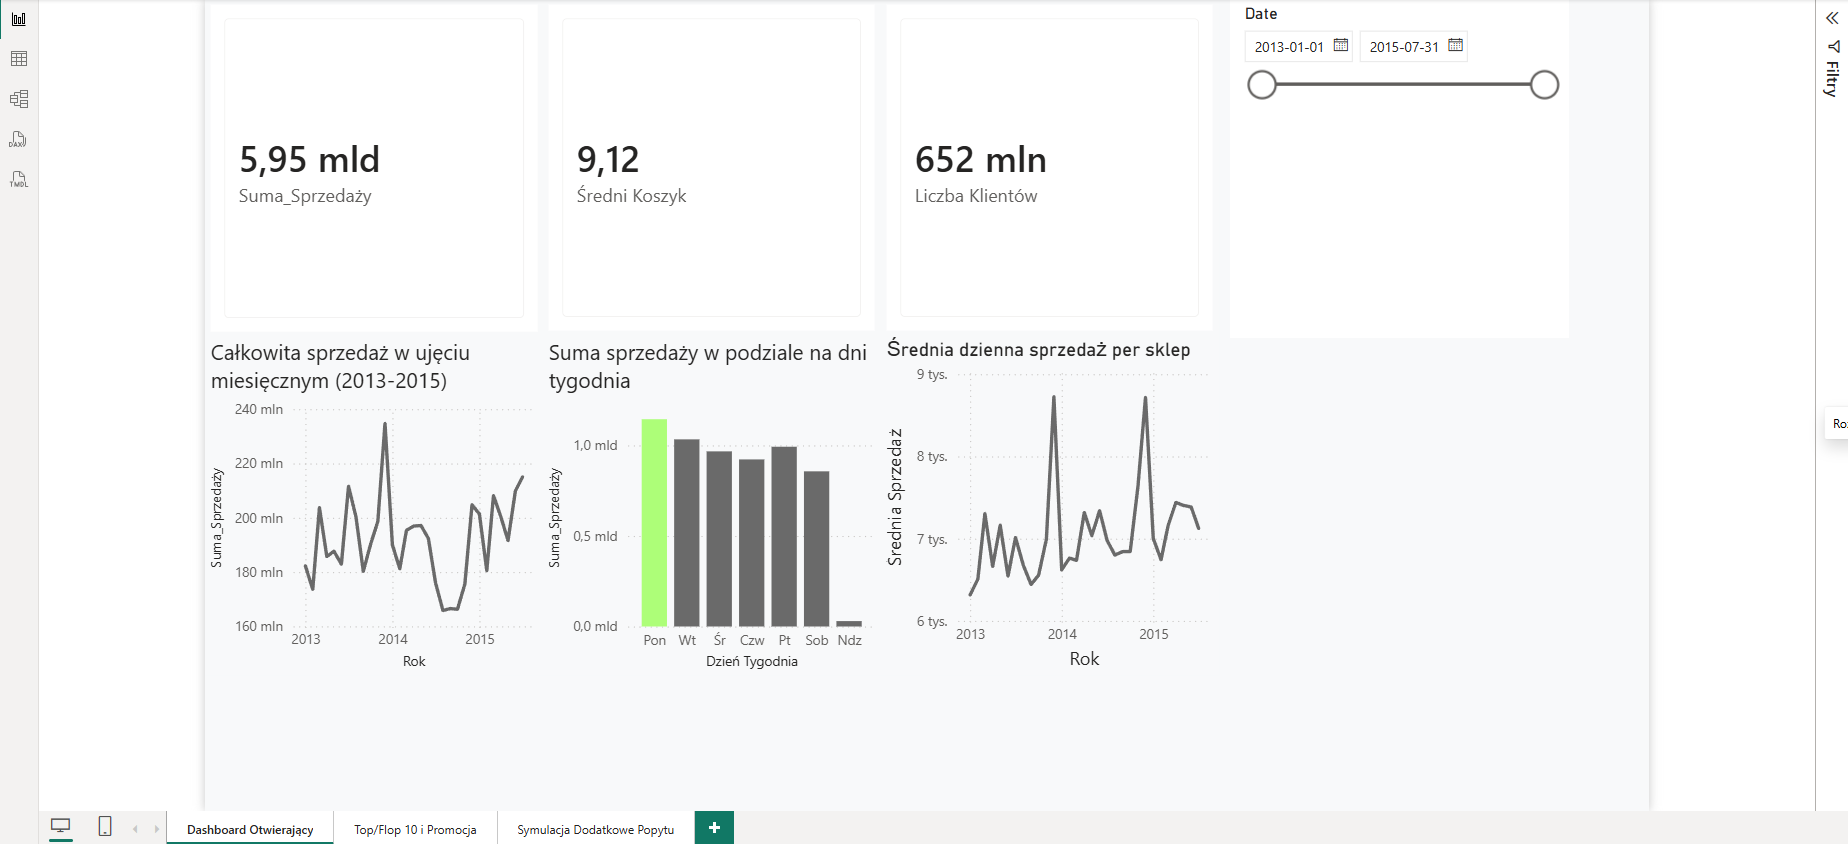

What the dashboard file says about the page in this screenshot:
{"tool":"powerbi","page":{"name":"Dashboard Otwierający","canvas":[1280,720],"ordinal":0},"visuals":[{"type":"cardVisual","title":"Łączny Przychód","fields":{"Data":["rossmann_decision_data (1).Suma Sprzedaży"]},"box":[0,0,300,300],"z":0},{"type":"cardVisual","title":"Średnia Wartość Koszyka","fields":{"Data":["rossmann_decision_data (1).Średni Koszyk"]},"box":[299.7,0,299.7,299.7],"z":1000},{"type":"cardVisual","title":"Całkowita Liczba Klientów","fields":{"Data":["rossmann_decision_data (1).Liczba Klientów"]},"box":[599.4,0,299.7,299.7],"z":2000},{"type":"lineChart","title":"Całkowita sprzedaż w ujęciu miesięcznym (2013-2015)","fields":{"Category":["rossmann_decision_data (1).Date.Odmiana.Hierarchia dat.Rok","rossmann_decision_data (1).Date.Odmiana.Hierarchia dat.Miesiąc"],"Y":["rossmann_decision_data (1).Suma Sprzedaży"]},"box":[0,299.6,299.6,299.6],"z":3000},{"type":"columnChart","title":"Suma sprzedaży w podziale na dni tygodnia","fields":{"Y":["rossmann_decision_data (1).Suma Sprzedaży"],"Category":["rossmann_decision_data (1).Dzien_Tygodnia_Nazwa"]},"box":[299.7,299.7,299.7,299.7],"z":4000},{"type":"lineChart","title":"Średnia dzienna sprzedaż per sklep","fields":{"Y":["rossmann_decision_data (1).Średnia Sprzedaż"],"Category":["rossmann_decision_data (1).Date.Odmiana.Hierarchia dat.Rok","rossmann_decision_data (1).Date.Odmiana.Hierarchia dat.Miesiąc"]},"box":[599.4,299.7,299.7,299.7],"z":5000},{"type":"slicer","fields":{"Values":["rossmann_decision_data (1).Date"]},"box":[909,0,300,300],"z":5001}]}

Visuals, with their boxes on the page's 1280x720 design canvas (x1, y1, x2, y2). These are canvas units, not pixel positions in the 1848x844 screenshot, which may show the page scaled, cropped or inside an application window:
"Łączny Przychód" cardVisual: (0,0,300,300)
"Średnia Wartość Koszyka" cardVisual: (300,0,599,300)
"Całkowita Liczba Klientów" cardVisual: (599,0,899,300)
"Całkowita sprzedaż w ujęciu miesięcznym (2013-2015)" lineChart: (0,300,300,599)
"Suma sprzedaży w podziale na dni tygodnia" columnChart: (300,300,599,599)
"Średnia dzienna sprzedaż per sklep" lineChart: (599,300,899,599)
slicer - rossmann_decision_data (1).Date: (909,0,1209,300)
